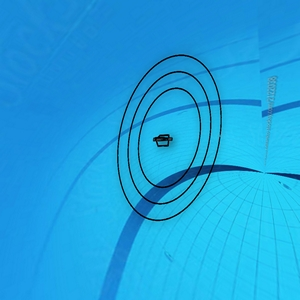circle: (117, 52, 218, 222)
submarine: (154, 137, 172, 149)
